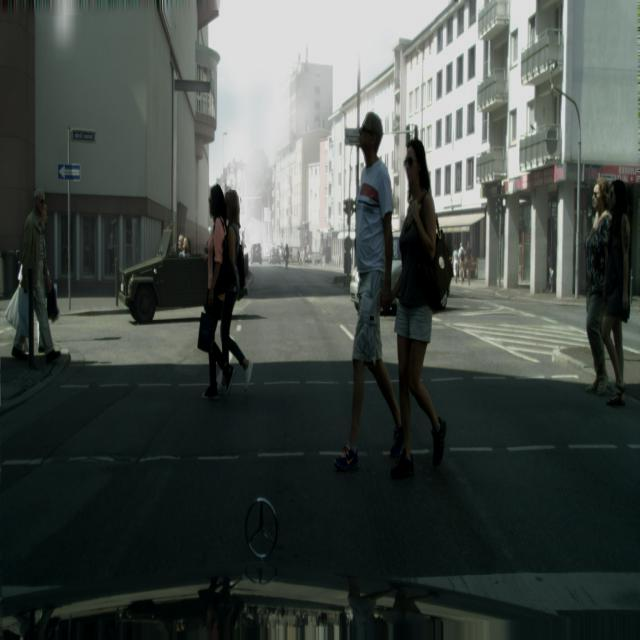bus: (333, 113, 404, 471), (389, 138, 447, 479), (203, 186, 253, 396), (12, 187, 61, 366), (602, 179, 631, 408), (584, 178, 611, 397)
person: (118, 224, 216, 324)
